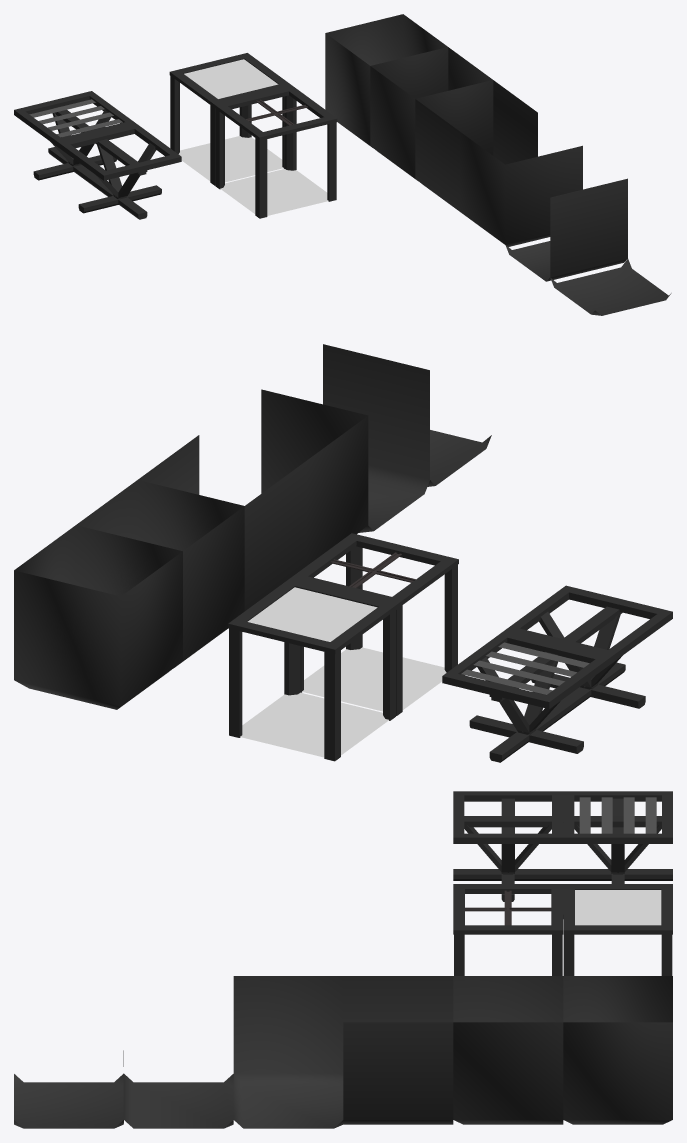
The model's file is lattices and plenums.fbx.
3 renders of one model, top to bottom at view 1: azimuth 30°, elevation 25°; view 2: azimuth 150°, elevation 25°; view 3: azimuth 270°, elevation 25°, orthographic. The views are drawn at different scales.
Visible parts, largest first — view 1: Plenum Cover O, Plenum Cover L, Plenum Open, Plenum Cover C, Plenum Cover T, Plenum Closed, Plenum Cover I, Lattice, Catwalk, Plenum Cover X; view 2: Plenum Cover O, Plenum Closed, Plenum Cover C, Plenum Cover L, Plenum Cover T, Plenum Open, Catwalk, Plenum Cover I, Lattice, Plenum Cover X; view 3: Plenum Cover L, Plenum Cover I, Plenum Cover C, Plenum Cover O, Catwalk, Lattice, Plenum Closed, Plenum Cover T, Plenum Cover X, Plenum Open.
Boxes of the visible parts, <box> form: Plenum Cover O: <box>325,14,448,147</box>; Plenum Cover L: <box>460,132,582,246</box>; Plenum Open: <box>214,85,337,218</box>; Plenum Cover C: <box>370,47,493,180</box>; Plenum Cover T: <box>505,178,627,281</box>; Plenum Closed: <box>169,53,291,185</box>; Plenum Cover I: <box>415,80,537,214</box>; Lattice: <box>59,124,181,219</box>; Catwalk: <box>14,91,136,186</box>; Plenum Cover X: <box>550,259,671,315</box>; Plenum Cover O: <box>14,525,182,709</box>; Plenum Closed: <box>228,578,396,761</box>; Plenum Cover C: <box>76,480,244,668</box>; Plenum Cover L: <box>261,389,368,565</box>; Plenum Cover T: <box>323,344,429,532</box>; Plenum Open: <box>290,533,458,715</box>; Catwalk: <box>442,631,611,762</box>; Plenum Cover I: <box>138,435,306,610</box>; Lattice: <box>504,585,672,716</box>; Plenum Cover X: <box>427,430,491,486</box>; Plenum Cover L: <box>233,976,343,1128</box>; Plenum Cover I: <box>343,976,453,1124</box>; Plenum Cover C: <box>453,976,563,1124</box>; Plenum Cover O: <box>563,976,672,1124</box>; Catwalk: <box>563,791,672,883</box>; Lattice: <box>453,791,563,901</box>; Plenum Closed: <box>563,884,672,975</box>; Plenum Cover T: <box>123,1050,233,1128</box>; Plenum Cover X: <box>14,1074,123,1128</box>; Plenum Open: <box>453,884,562,975</box>.
Size of the model in its own units: 5 by 1.07 by 6.
